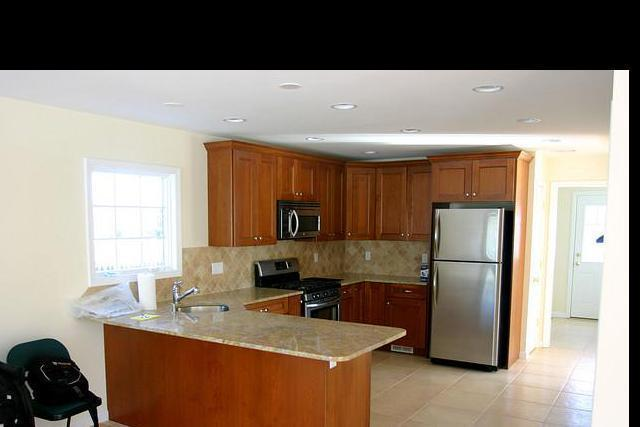Lavaplatos: (173, 276, 227, 315)
